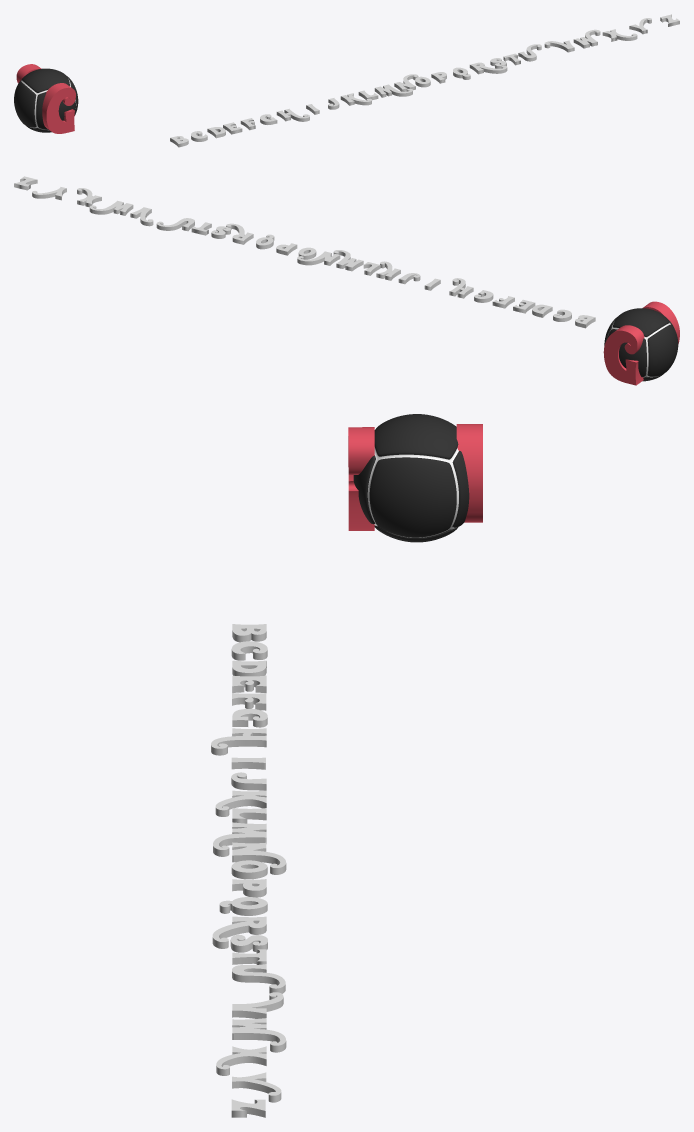
3 views of the same model, one above another, from view 1: azimuth 30°, elevation 25°; view 2: azimuth 150°, elevation 25°; view 3: azimuth 270°, elevation 25° (orthographic). The views are drawn at different scales.
Visible parts, largest first — view 1: Cube.001, A, M, W, R, H, X, N, U, K, V; view 2: Cube.001, A.001, W, A, N, M, U; view 3: Cube.001, A, A.001, W, M, N.
Part boxes in pixels (x1=…): Cube.001: x1=14, y1=68, x2=78, y2=132; A: x1=42, y1=83, x2=75, y2=133; M: x1=374, y1=84, x2=412, y2=97; W: x1=573, y1=29, x2=600, y2=48; R: x1=469, y1=62, x2=507, y2=74; H: x1=276, y1=108, x2=309, y2=121; X: x1=602, y1=29, x2=637, y2=41; N: x1=394, y1=74, x2=418, y2=91; U: x1=518, y1=44, x2=541, y2=61; K: x1=340, y1=93, x2=371, y2=105; V: x1=544, y1=40, x2=574, y2=52; Cube.001: x1=604, y1=308, x2=678, y2=381; A.001: x1=603, y1=325, x2=644, y2=385; W: x1=89, y1=200, x2=133, y2=215; A: x1=642, y1=301, x2=679, y2=343; N: x1=297, y1=251, x2=340, y2=265; M: x1=333, y1=250, x2=363, y2=271; U: x1=156, y1=218, x2=194, y2=231; Cube.001: x1=353, y1=414, x2=469, y2=542; A: x1=348, y1=427, x2=374, y2=530; A.001: x1=456, y1=424, x2=482, y2=522; W: x1=232, y1=1018, x2=286, y2=1052; M: x1=213, y1=822, x2=266, y2=856; N: x1=232, y1=842, x2=286, y2=874.
Size of the model in its own units: 1885 by 185 by 361.
